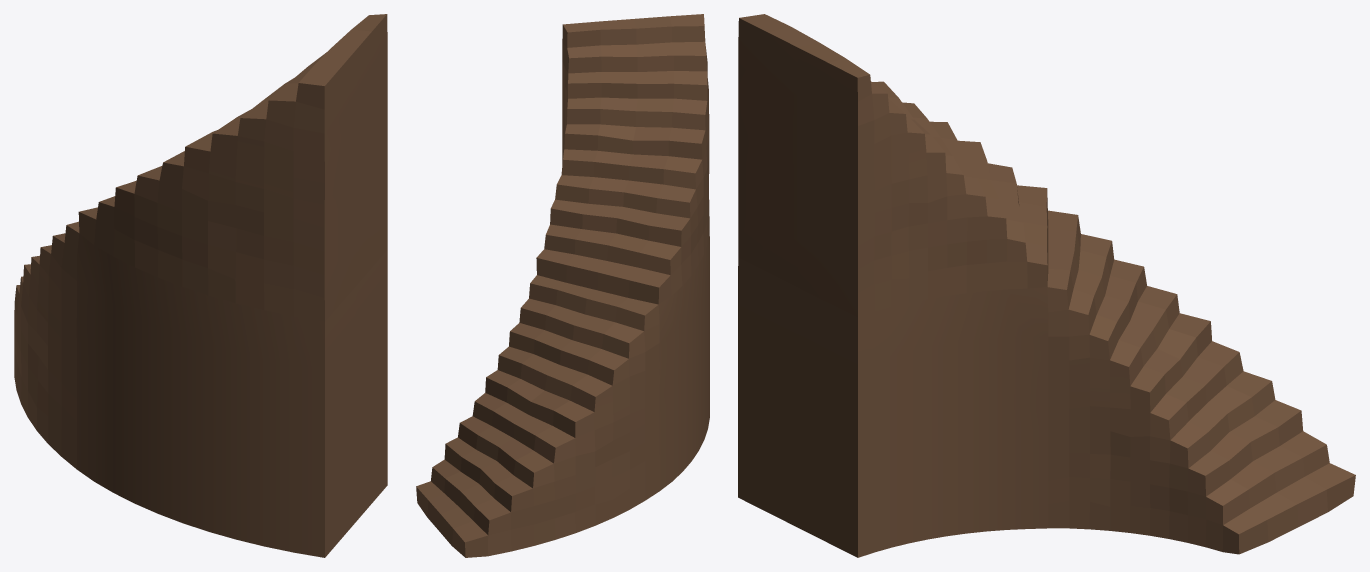
File: Stone_Stairs_Big_01.fbx
3 views of the same model, side by side, from view 1: azimuth 30°, elevation 25°; view 2: azimuth 150°, elevation 25°; view 3: azimuth 270°, elevation 25° (orthographic). The views are drawn at different scales.
Parts seen in each view (by area): view 1: Stone_Stairs_Big_01; view 2: Stone_Stairs_Big_01; view 3: Stone_Stairs_Big_01.
Part boxes in pixels (bbox=[...]): Stone_Stairs_Big_01: bbox=[14, 14, 387, 557]; Stone_Stairs_Big_01: bbox=[416, 14, 709, 557]; Stone_Stairs_Big_01: bbox=[738, 14, 1355, 557].
Bounding box in the file's own units: 278 × 577 × 673.
